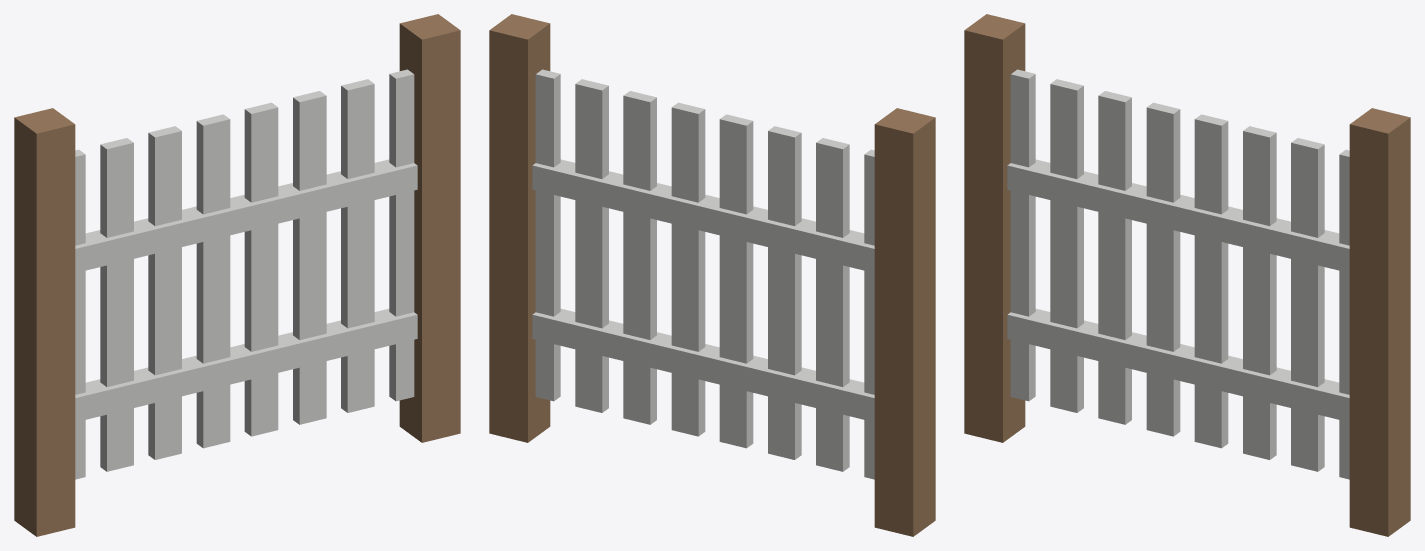
The model's file is fence_picket_straight.glb.
3 renders of one model, left to right at view 1: azimuth 30°, elevation 25°; view 2: azimuth 150°, elevation 25°; view 3: azimuth 330°, elevation 25°, orthographic.
Visible parts, largest first — view 1: fence_picket_straight; view 2: fence_picket_straight; view 3: fence_picket_straight.
Part boxes in pixels (<box>): fence_picket_straight: <box>14,14,460,536</box>; fence_picket_straight: <box>489,14,935,536</box>; fence_picket_straight: <box>964,14,1410,536</box>.
Size of the model in its own units: 1.1 by 1 by 0.1.
